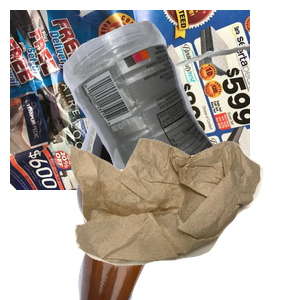glass: (60, 120, 300, 300)
paper: (10, 10, 250, 190)
plastic: (60, 18, 300, 198)
trash: (67, 136, 300, 300)
